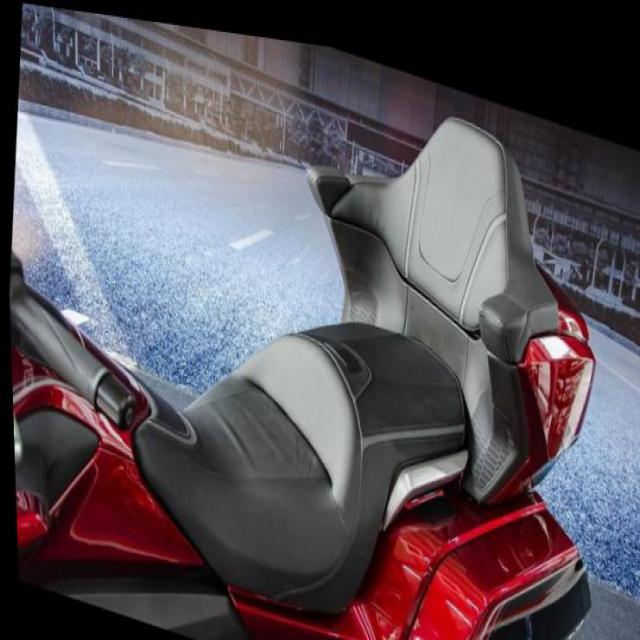Gold Wing: (0, 0, 627, 639)
